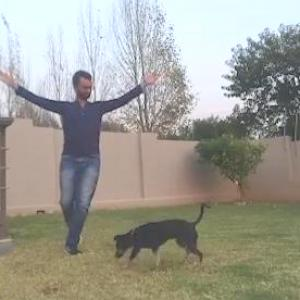takeoff: (1, 70, 157, 256)
